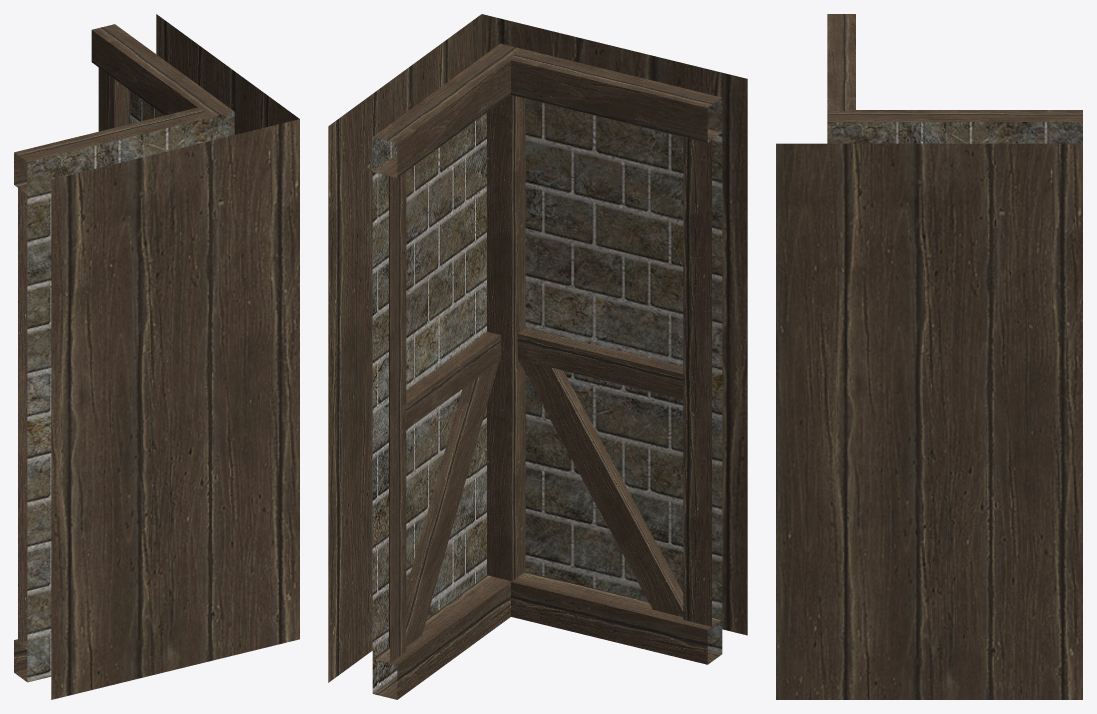
File: ARC1010200.fbx
3 renders of one model, left to right at view 1: azimuth 30°, elevation 25°; view 2: azimuth 150°, elevation 25°; view 3: azimuth 270°, elevation 25°, orthographic. The views are drawn at different scales.
Parts seen in each view (by area): view 1: smARC1010200; view 2: smARC1010200; view 3: smARC1010200.
Boxes of the visible parts, box(x1,y1,x2,y2) form: smARC1010200: box(14, 14, 299, 699); smARC1010200: box(328, 14, 747, 699); smARC1010200: box(776, 14, 1082, 699).
Size of the model in its own units: 134 by 268 by 134.
1 material, 1 textured.
